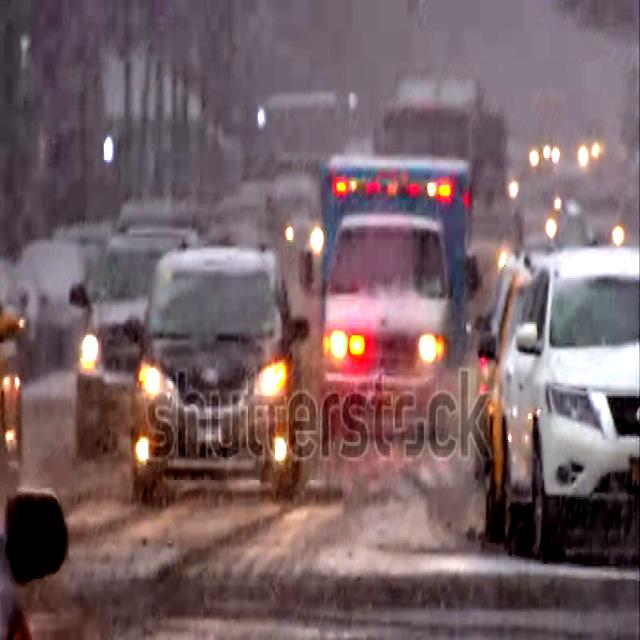ambulance: (316, 156, 472, 440)
